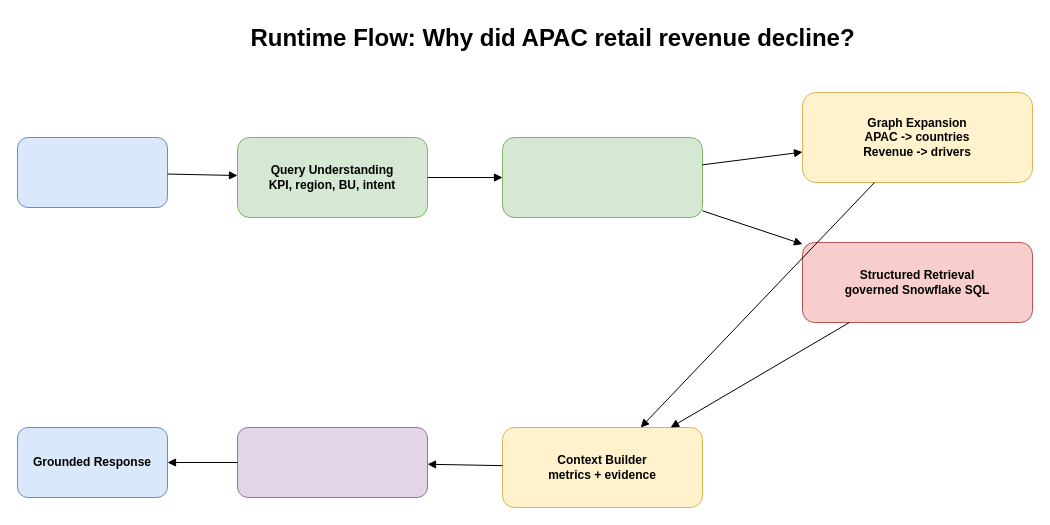
The diagram is 1050 pixels wide and 525 high, and some of its shapes have lost their labels. Each missing label, with the centre of its shape:
"Ontology Grounding mentions -> concepts" goes at (602,177).
"Reranking" goes at (332,462).
"User Query" goes at (92,172).
